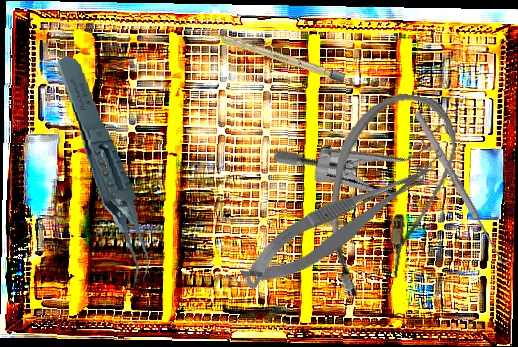Cannula: (317, 85, 463, 309)
Hook Surgical: (411, 107, 515, 268)
Micro Scissor: (229, 153, 451, 297)
Scalpel Handle: (204, 28, 346, 83)
Speculum: (271, 69, 472, 242)
Tissue Forceps: (55, 49, 152, 296)
